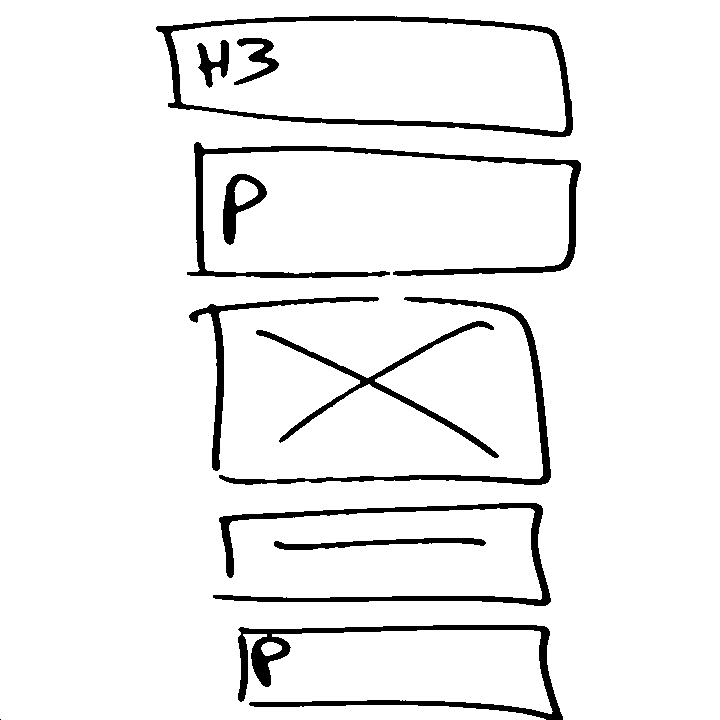button: (203, 501, 559, 614)
heading3: (151, 12, 578, 145)
paragraph: (180, 140, 587, 290), (220, 615, 576, 720)
picture: (183, 295, 563, 490)
